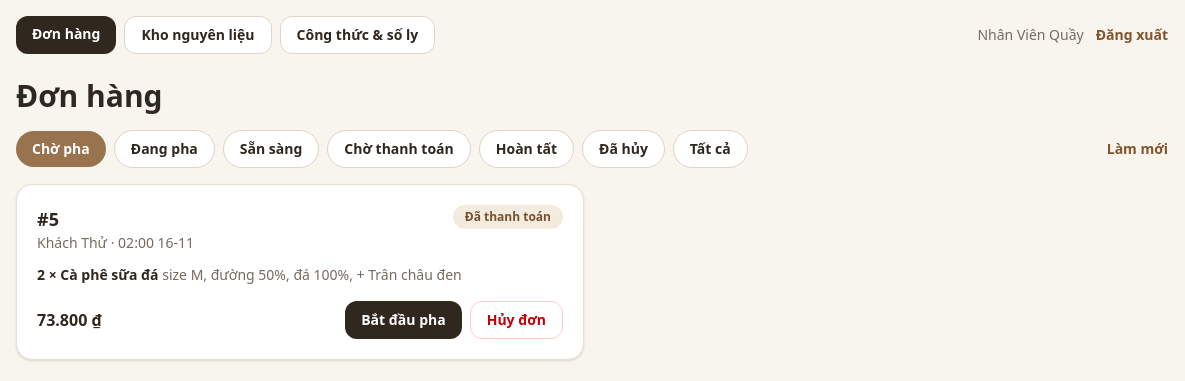
Test: Trang nhân viên /staff (FR-15) › bấm Bắt đầu pha gửi PATCH trạng thái PREPARING và báo thành công
The image size is (1185, 381).
Click the button "Bắt đầu pha": point(403, 320) 345,301 -> 462,339
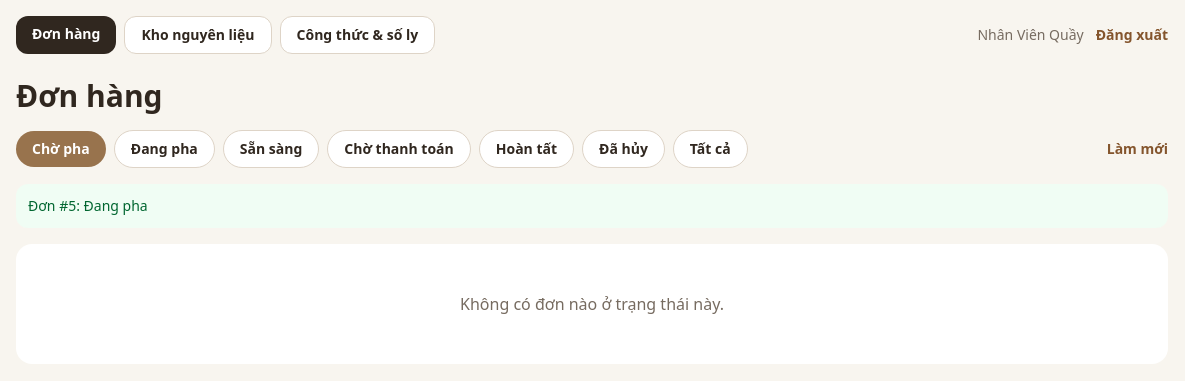
Expected: the text "Đơn #5: Đang pha" is shown, 16,184 -> 1168,228
Expected: the text "Không có đơn nào ở trạng thái này." is shown, 16,244 -> 1168,364
